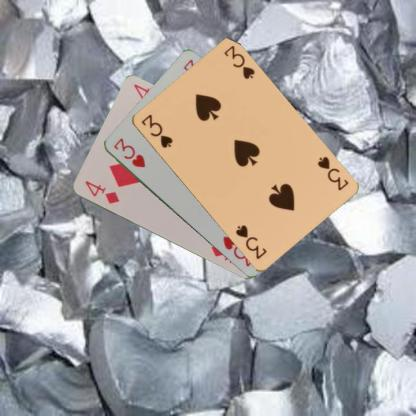3h: (110, 135, 147, 169)
3s: (138, 112, 174, 150), (314, 154, 350, 192)
4d: (82, 178, 120, 205)
